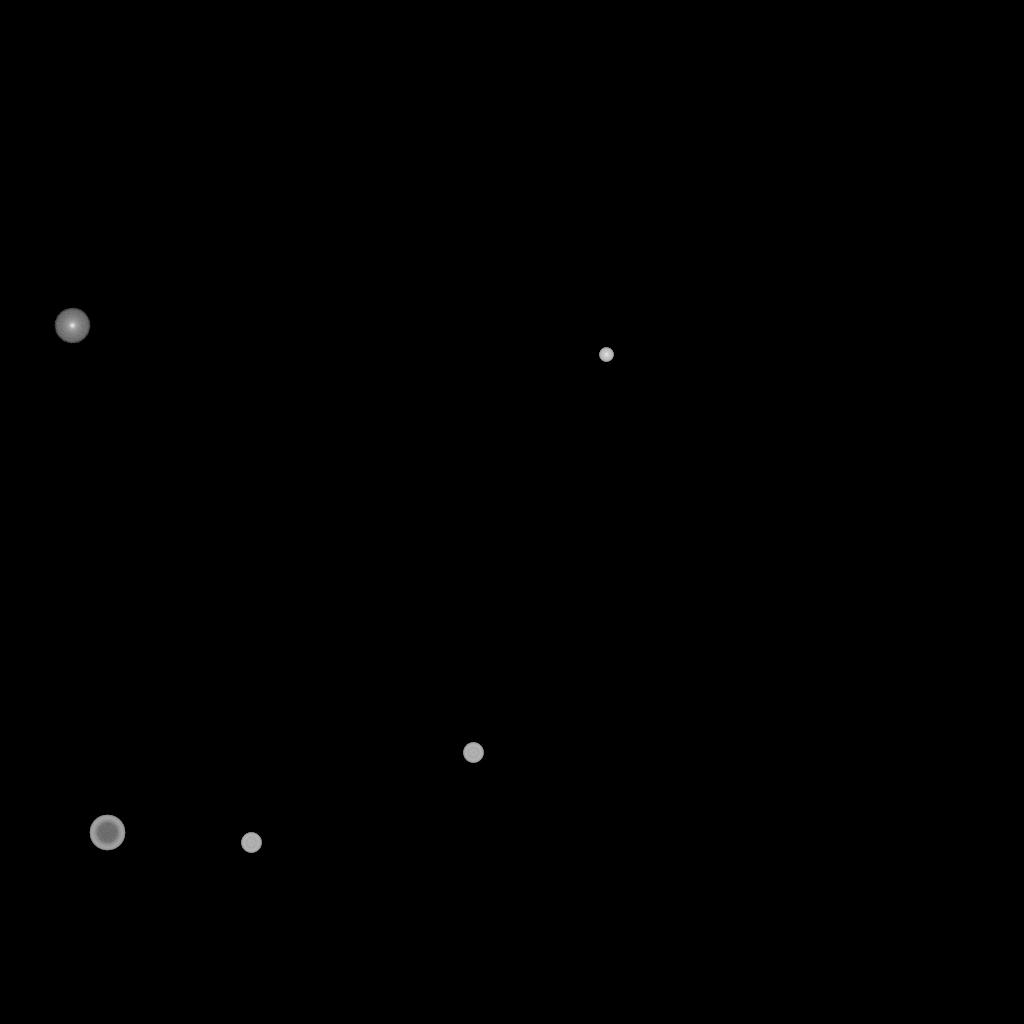depth:-30: (599, 348, 613, 362)
depth:-40: (463, 743, 483, 763), (241, 833, 261, 853)
depth:-60: (89, 815, 125, 851)
depth:0: (54, 308, 90, 344)
